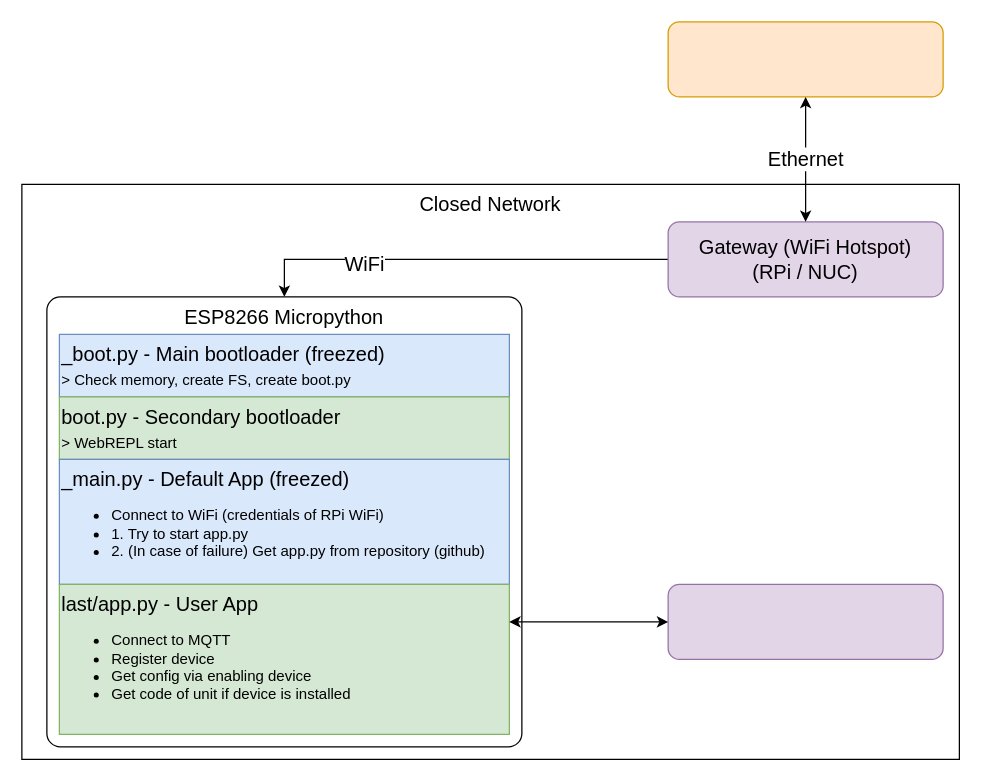
This 981x781 diagram has some shape labels left out. The shapes that lost their labels are listed below. From the top down, each one's centre as x and y in pixels, then its label:
(x=805, y=59): Broker
(x=805, y=621): Micro server
